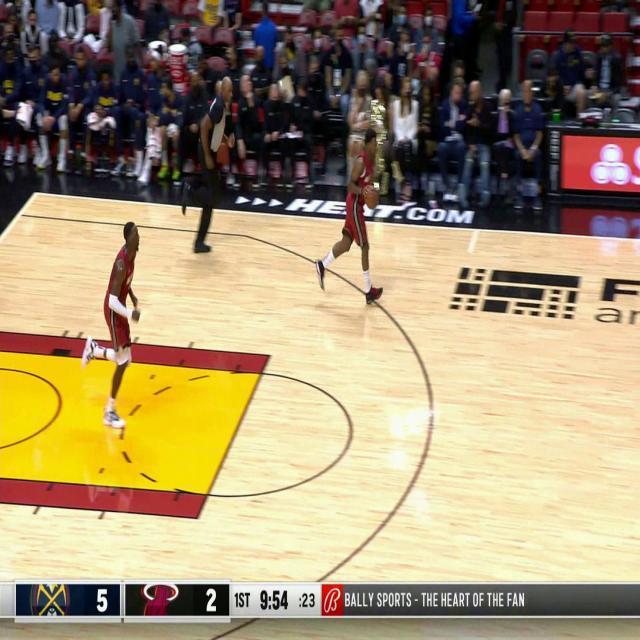rim: (366, 186, 380, 210)
